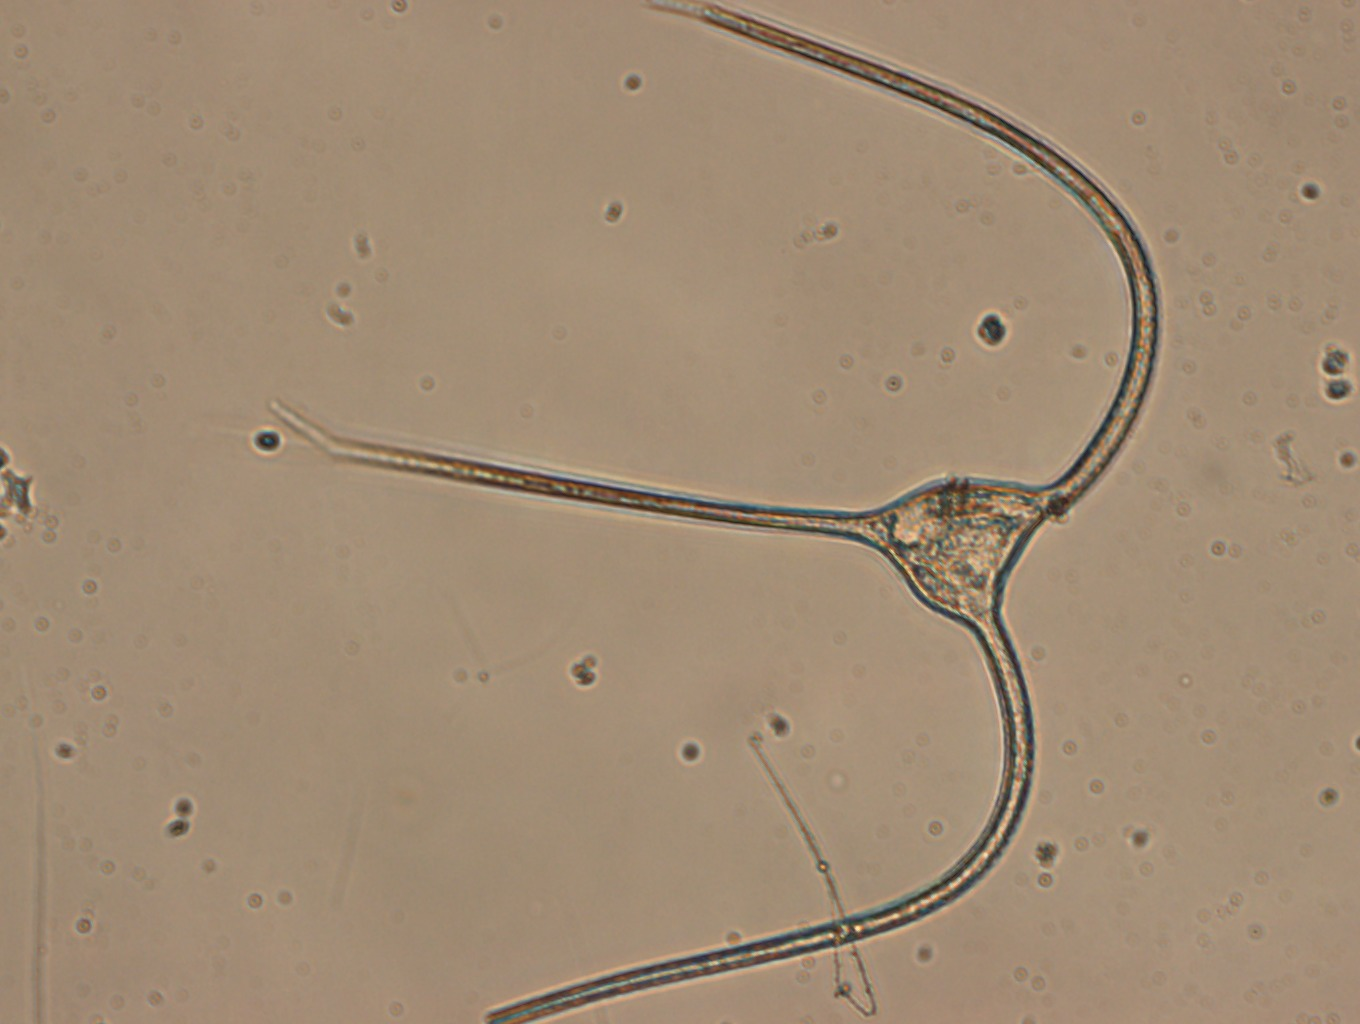ceratium trichoceros: (281, 1, 1160, 1023)
